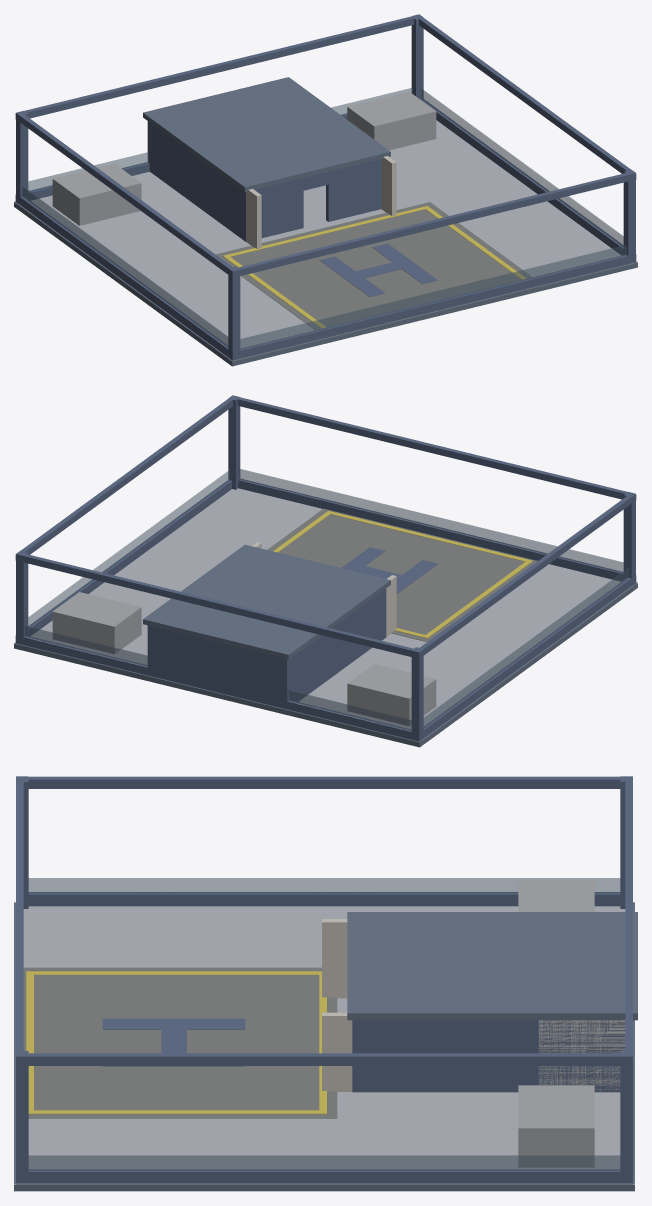
Rendered from office-roof-a.zfix-v3.lod0.glb.
3 renders of one model, top to bottom at view 1: azimuth 30°, elevation 25°; view 2: azimuth 150°, elevation 25°; view 3: azimuth 270°, elevation 25°, orthographic. The views are drawn at different scales.
Parts seen in each view (by area): view 1: office-roof-a; view 2: office-roof-a; view 3: office-roof-a.
Part boxes in pixels (bbox=[...]): office-roof-a: bbox=[14, 14, 637, 366]; office-roof-a: bbox=[14, 395, 637, 747]; office-roof-a: bbox=[14, 776, 637, 1191].
Bounding box in the file's own units: 26.16 × 5.83 × 24.48.
